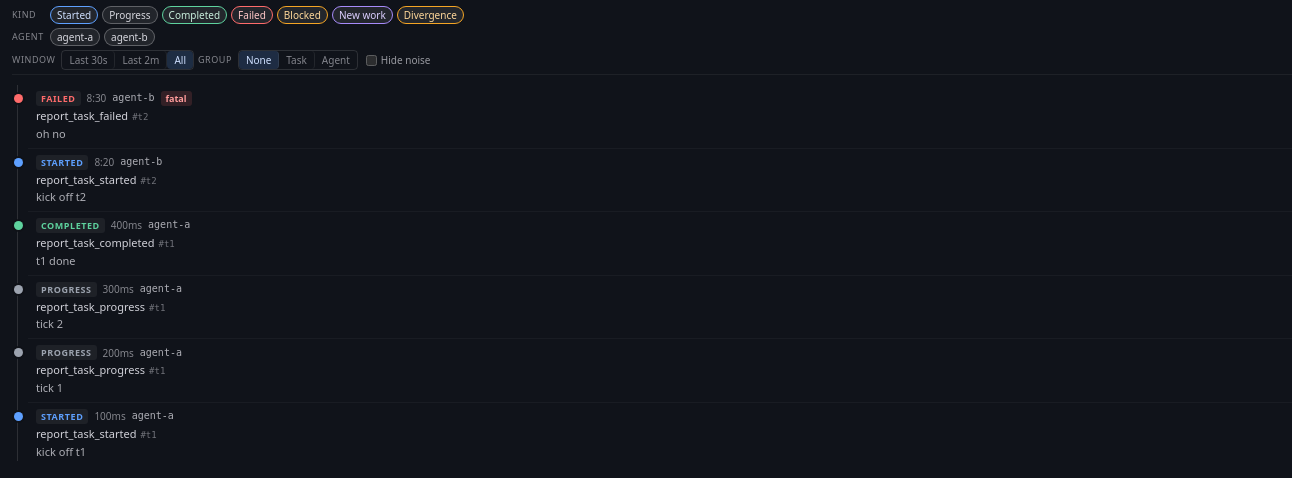
it: <OrchestrationTimeline /> › hides noise by collapsing consecutive progress events per task
The width and height of the screenshot is (1292, 478).
Expected: the number of elements with test id "orchestration-event" is 6, [28,85,1291,149]; [28,149,1291,212]; [28,212,1291,276]; [28,276,1291,339]; [28,339,1291,403]; [36,409,174,458]
Step 1. Click the checkbox labelled "Hide noise" → (371, 60), box [366,54,377,66]
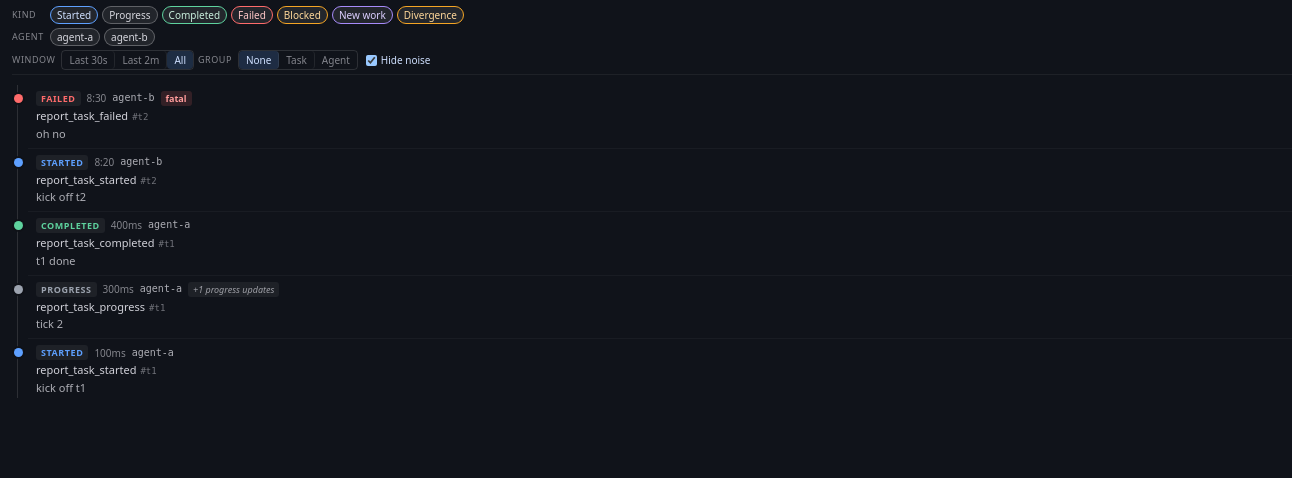
Now the number of elements with test id "orchestration-event" is 5, box [28,85,1291,149]; [28,149,1291,212]; [28,212,1291,276]; [28,276,1291,339]; [36,345,174,395]
Now the text with test id "orchestration-collapsed-count" reads "+1 progress updates", box [188,282,280,297]
